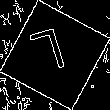L_S: (33, 26, 77, 84)
